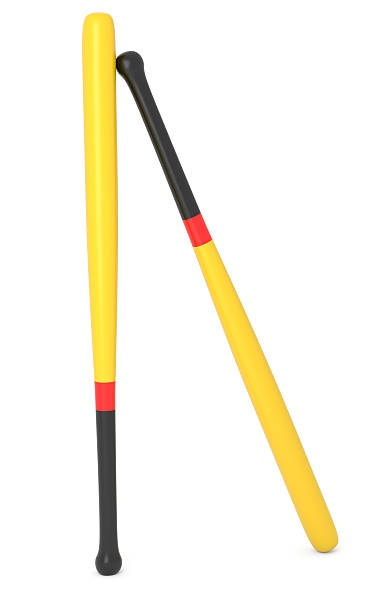bita: (109, 47, 336, 550), (76, 13, 128, 576)
